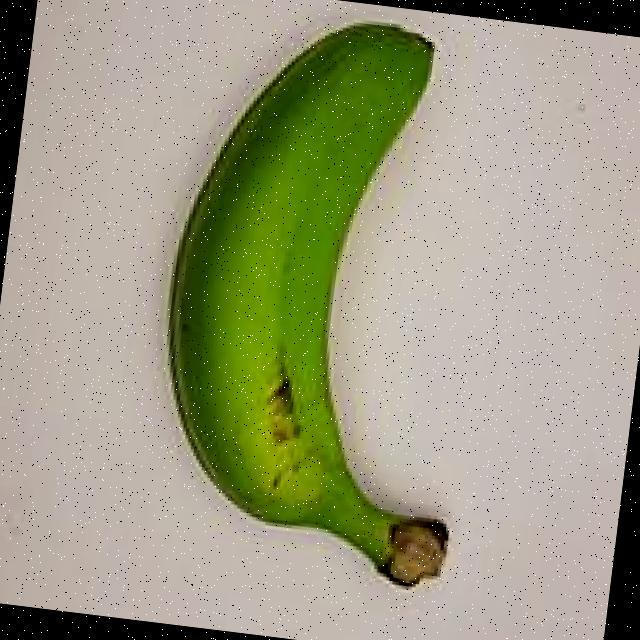Unripe: (77, 0, 547, 621)
